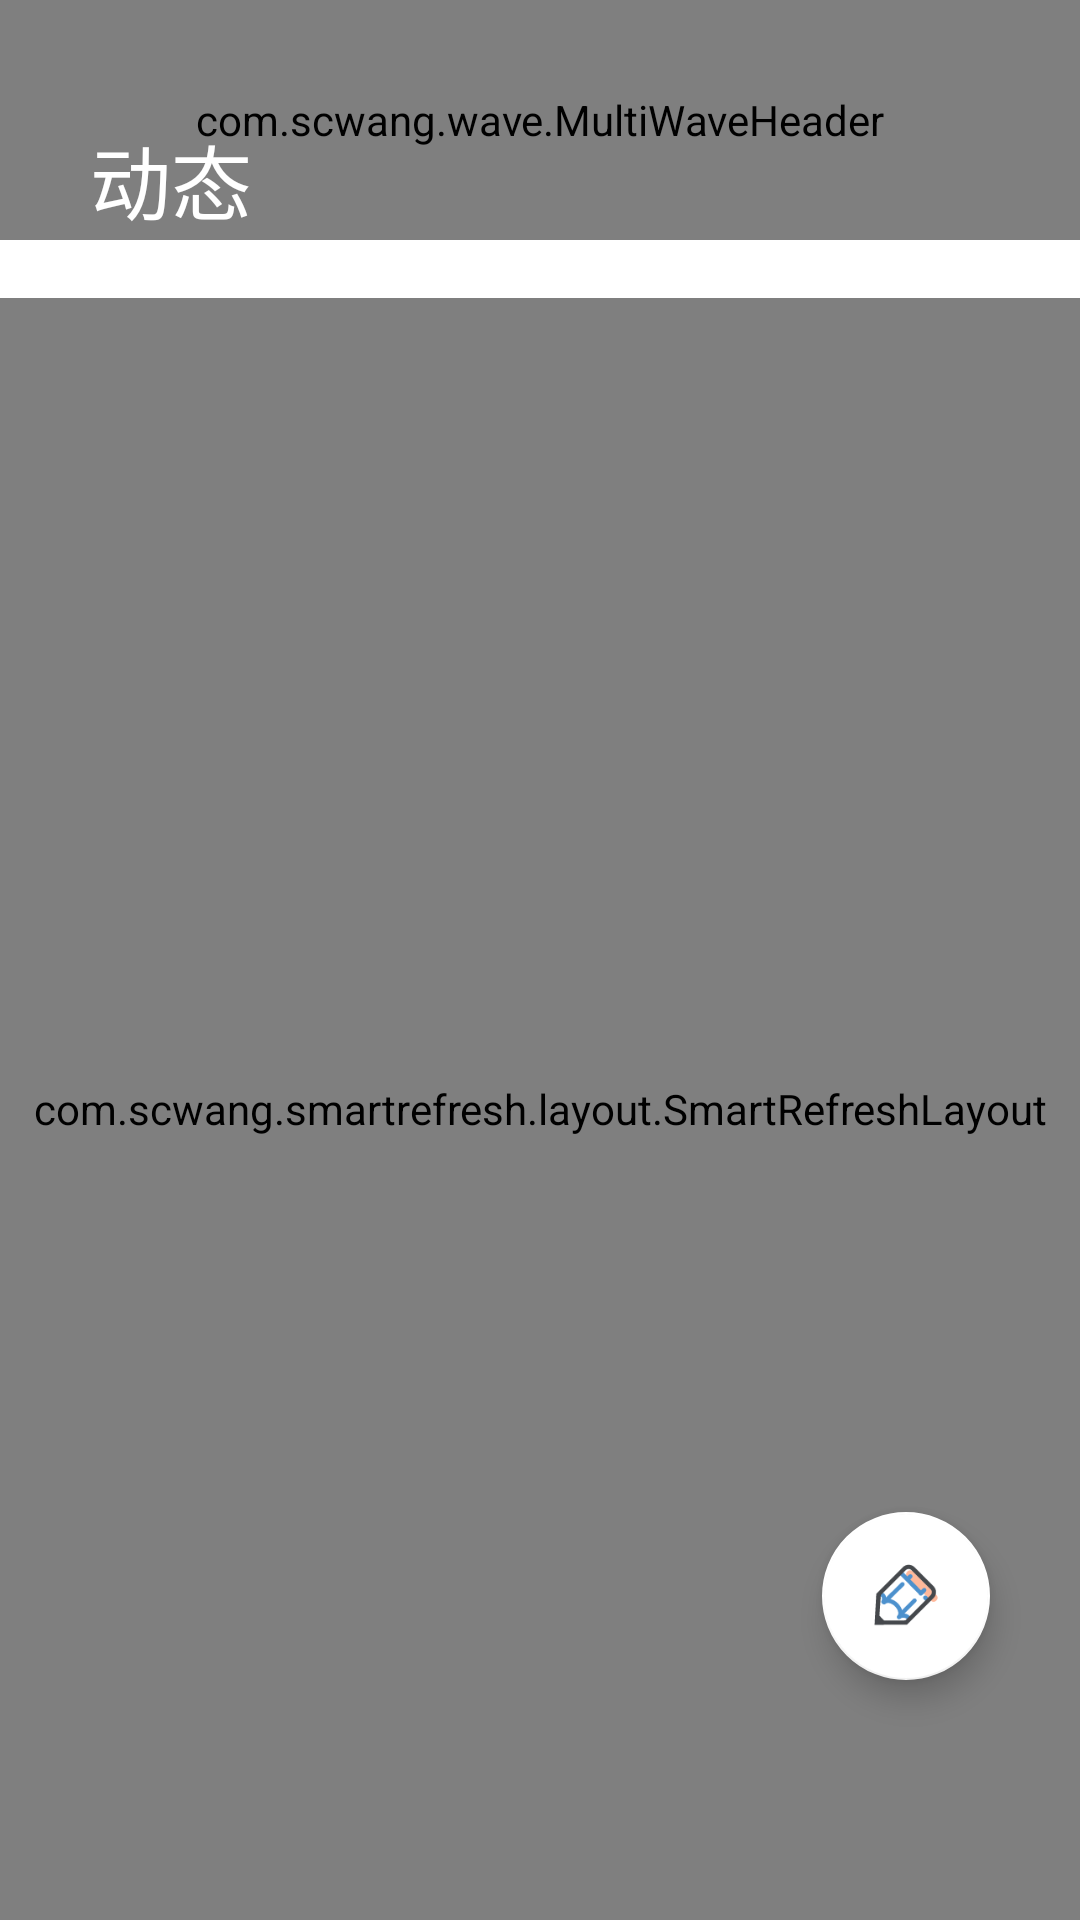

Icon bounding boxes for this 1080px x 1920px phone screenshot, format (x1, y1, x2, y2):
square edit: (822, 1512, 990, 1680)
